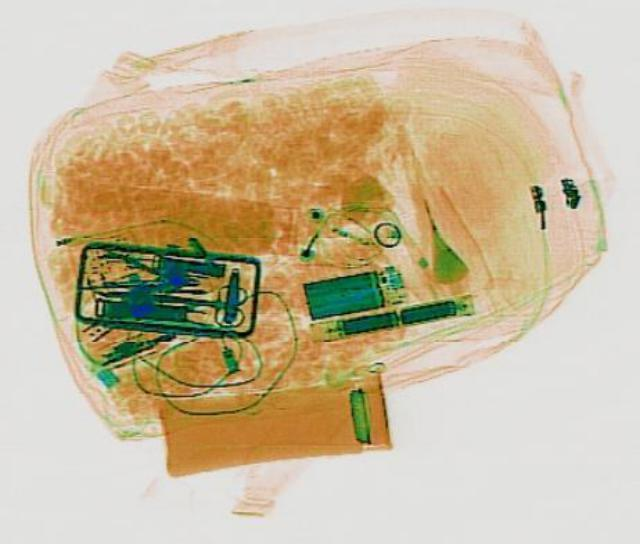Scissors: (162, 276, 248, 325)
